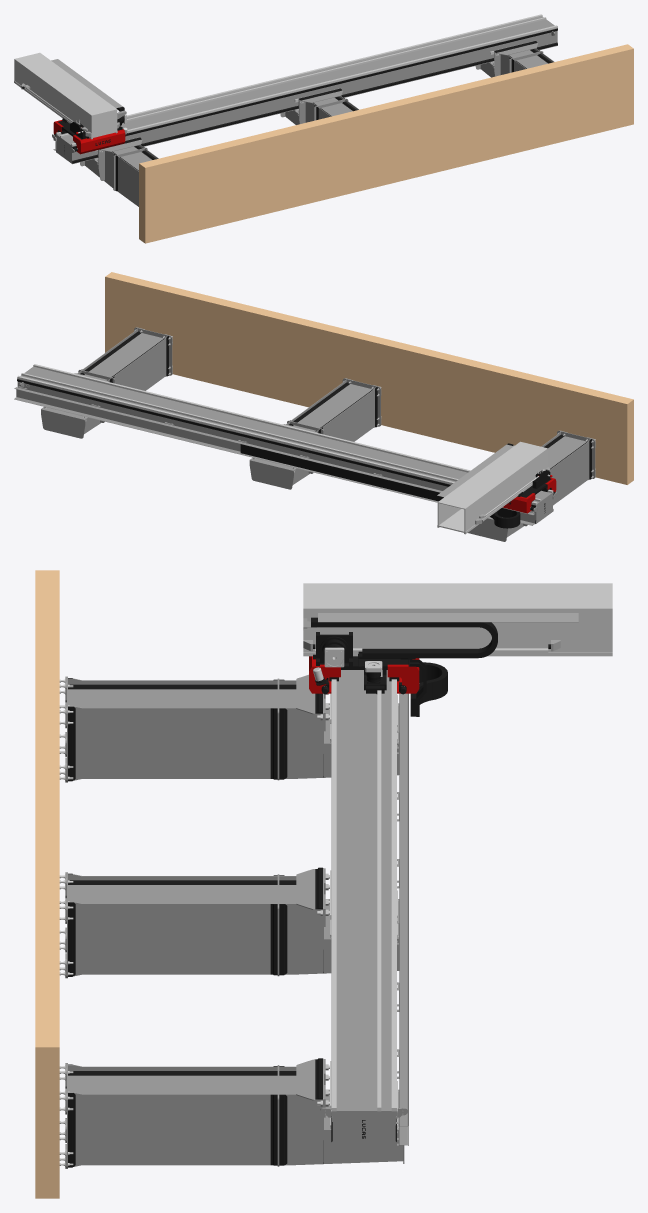
Rendered from Arm1.dae.
The picture shows the model from 3 angles, top to bottom: view 1: azimuth 30°, elevation 25°; view 2: azimuth 150°, elevation 25°; view 3: azimuth 270°, elevation 25°; orthographic projection. The views are drawn at different scales.
Parts seen in each view (by area): view 1: _lucas_sol_5780_510001176_0, _rcz_fut_4_3_3_Sa10001171_0, _lucas_poutre_sta10001129_2, _lucas_poutre_sta10001129_1, _lucas_poutre_sta10001130_0, _lucas_poutre_sta10001129_0, _lucas_al_rail_1110001133_0, _lucas_al_rail_1110001132_0, _al_poteau_bas_2110001164_0, _alsc_nez_de_pote10001163_0, _rcz_chariot_stan10001138_0, _alsc_nez_de_pote10001165_0 (+3 smaller); view 2: _lucas_sol_5780_510001176_0, _rcz_fut_4_3_3_Sa10001171_0, _al_poteau_bas_2110001166_0, _al_poteau_bas_2110001167_0, _lucas_poutre_sta10001129_1, _lucas_poutre_sta10001129_2, _al_poteau_bas_2110001164_0, _lucas_chaine_Rep10001158_0, _lucas_poutre_sta10001130_0, _lucas_al_rail_1110001132_0, _lucas_al_goulott10001156_2, _lucas_al_rail_1110001133_0 (+8 smaller); view 3: _al_poteau_bas_2110001166_0, _al_poteau_bas_2110001164_0, _al_poteau_bas_2110001167_0, _rcz_fut_4_3_3_Sa10001171_0, _lucas_sol_5780_510001176_0, _lucas_poutre_sta10001130_0, _lucas_poutre_sta10001129_1, _alsc_nez_de_pote10001165_0, _lucas_poutre_sta10001129_2, _alsc_nez_de_pote10001162_0, _alsc_nez_de_pote10001163_0, _lucas_poutre_sta10001129_0 (+8 smaller).
Boxes of the visible parts, x1,y1,x2,y2 form: _lucas_sol_5780_510001176_0: [139, 44, 633, 243]; _rcz_fut_4_3_3_Sa10001171_0: [14, 52, 122, 139]; _lucas_poutre_sta10001129_2: [311, 42, 452, 97]; _lucas_poutre_sta10001129_1: [184, 73, 325, 133]; _lucas_poutre_sta10001130_0: [437, 17, 557, 71]; _lucas_poutre_sta10001129_0: [56, 104, 198, 164]; _lucas_al_rail_1110001133_0: [71, 25, 557, 146]; _lucas_al_rail_1110001132_0: [56, 14, 542, 135]; _al_poteau_bas_2110001164_0: [113, 148, 158, 206]; _alsc_nez_de_pote10001163_0: [80, 137, 146, 189]; _rcz_chariot_stan10001138_0: [53, 118, 127, 154]; _alsc_nez_de_pote10001165_0: [475, 41, 541, 77]; _lucas_sol_5780_510001176_0: [105, 272, 633, 484]; _rcz_fut_4_3_3_Sa10001171_0: [437, 441, 550, 534]; _al_poteau_bas_2110001166_0: [81, 327, 172, 390]; _al_poteau_bas_2110001167_0: [288, 378, 381, 441]; _lucas_poutre_sta10001129_1: [265, 427, 416, 480]; _lucas_poutre_sta10001129_2: [130, 394, 280, 447]; _al_poteau_bas_2110001164_0: [541, 430, 595, 505]; _lucas_chaine_Rep10001158_0: [240, 444, 520, 528]; _lucas_poutre_sta10001130_0: [17, 366, 145, 414]; _lucas_al_rail_1110001132_0: [17, 375, 537, 504]; _lucas_al_goulott10001156_2: [127, 414, 263, 459]; _lucas_al_rail_1110001133_0: [33, 364, 553, 492]; _al_poteau_bas_2110001166_0: [59, 1063, 278, 1168]; _al_poteau_bas_2110001164_0: [59, 676, 278, 782]; _al_poteau_bas_2110001167_0: [59, 872, 278, 978]; _rcz_fut_4_3_3_Sa10001171_0: [303, 583, 612, 656]; _lucas_sol_5780_510001176_0: [35, 570, 59, 1198]; _lucas_poutre_sta10001130_0: [331, 1008, 396, 1146]; _lucas_poutre_sta10001129_1: [331, 760, 391, 884]; _alsc_nez_de_pote10001165_0: [278, 1058, 404, 1166]; _lucas_poutre_sta10001129_2: [331, 884, 391, 1007]; _alsc_nez_de_pote10001162_0: [278, 867, 399, 975]; _alsc_nez_de_pote10001163_0: [278, 674, 399, 779]; _lucas_poutre_sta10001129_0: [331, 670, 391, 760].
Size of the model in its own units: 11578 by 1714 by 5925.
